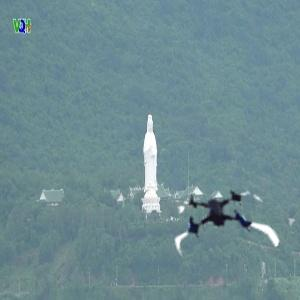drone: (167, 172, 271, 276)
